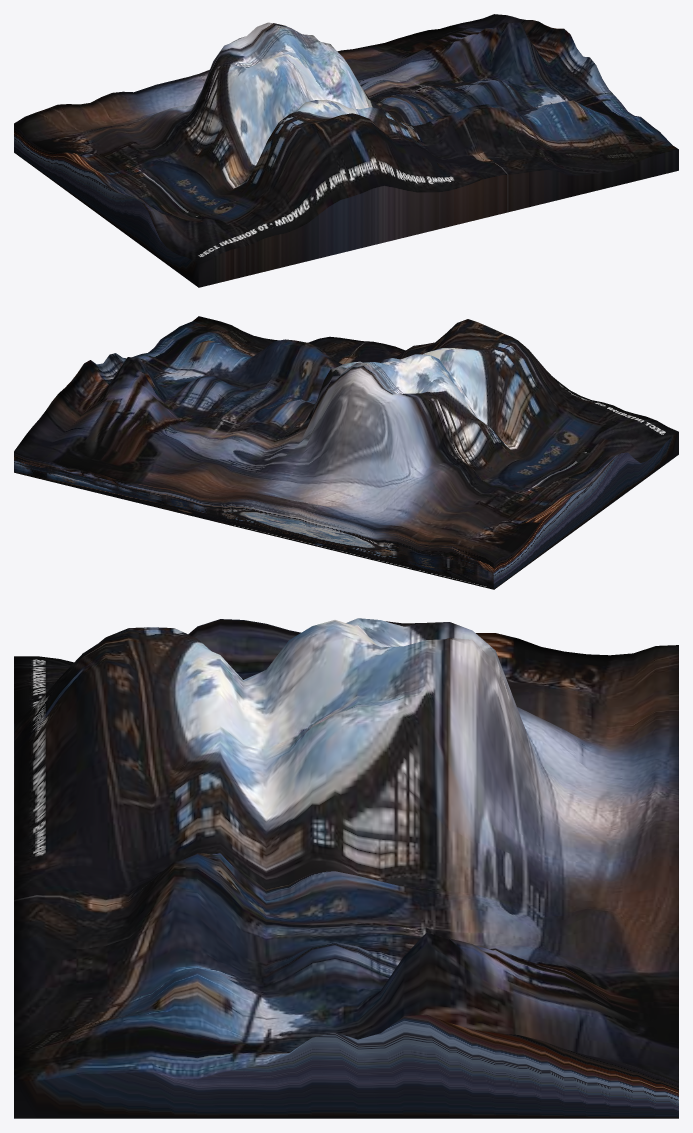
Rendered from SECT_INT_01_Wudang.glb.
3 views of the same model, one above another, from view 1: azimuth 30°, elevation 25°; view 2: azimuth 150°, elevation 25°; view 3: azimuth 270°, elevation 25° (orthographic). The views are drawn at different scales.
Parts seen in each view (by area): view 1: SECT_INT_01_Wudang; view 2: SECT_INT_01_Wudang; view 3: SECT_INT_01_Wudang.
Boxes of the visible parts, x1,y1,x2,y2 form: SECT_INT_01_Wudang: (14,14,678,287); SECT_INT_01_Wudang: (14,316,678,589); SECT_INT_01_Wudang: (14,618,678,1118).
Size of the model in its own units: 2 by 0.51 by 1.33.
1 material, 1 textured.
